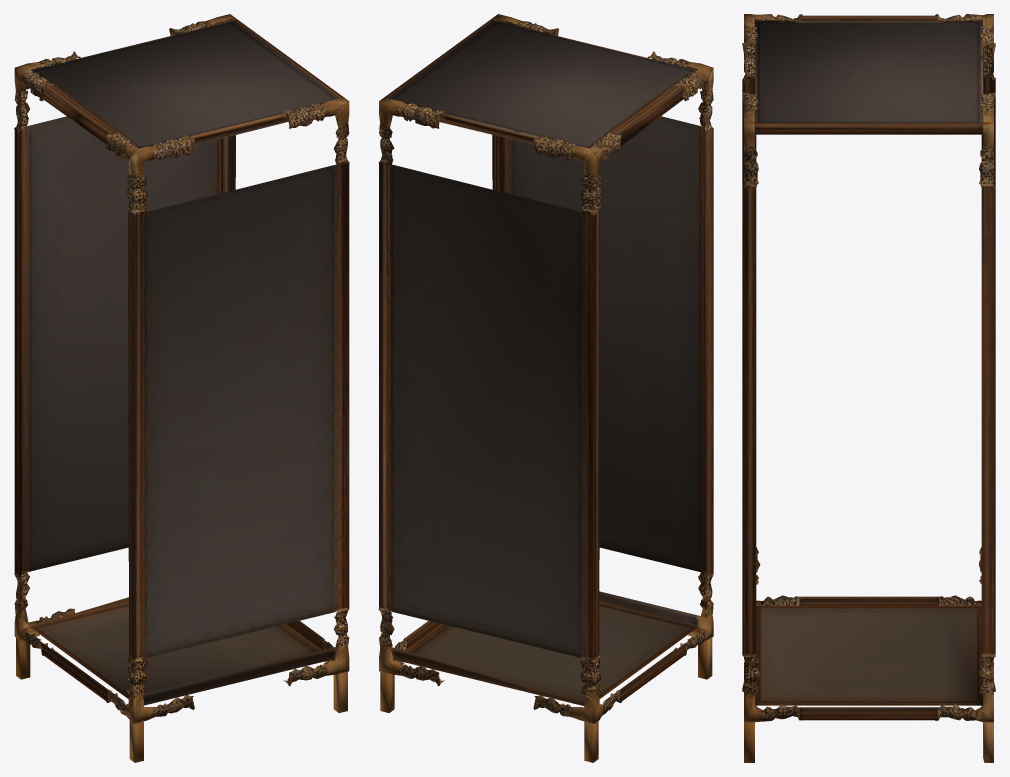
The model's file is mirror_v01.optimized.glb.
3 views of the same model, side by side, from view 1: azimuth 30°, elevation 25°; view 2: azimuth 150°, elevation 25°; view 3: azimuth 270°, elevation 25° (orthographic). The views are drawn at different scales.
Parts seen in each view (by area): view 1: tripo_node_290ccc25-cce9-4717-b8e0-7e38070eb4e9; view 2: tripo_node_290ccc25-cce9-4717-b8e0-7e38070eb4e9; view 3: tripo_node_290ccc25-cce9-4717-b8e0-7e38070eb4e9.
Boxes of the visible parts, x1=… form: tripo_node_290ccc25-cce9-4717-b8e0-7e38070eb4e9: x1=14, y1=14, x2=349, y2=762; tripo_node_290ccc25-cce9-4717-b8e0-7e38070eb4e9: x1=378, y1=14, x2=713, y2=762; tripo_node_290ccc25-cce9-4717-b8e0-7e38070eb4e9: x1=742, y1=14, x2=995, y2=762.
Bounding box in the file's own units: 0.3692 × 0.998 × 0.3574.
1 material, 1 textured.
